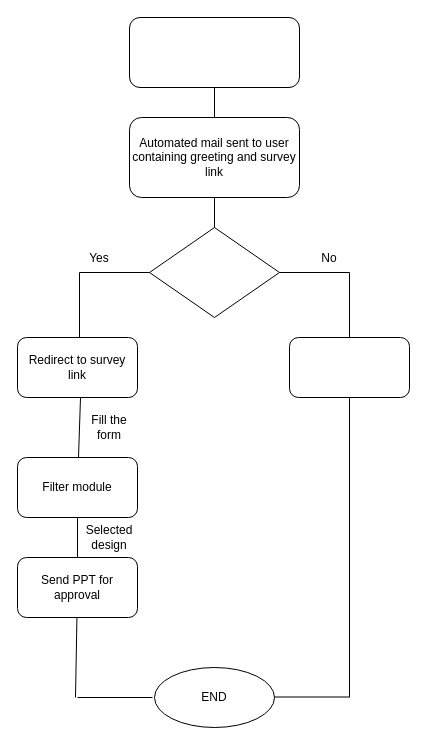
Some shapes in this 427 by 745 pixel diagram are drawn without their labels. The shapes that lost their labels are listed below. From the top down, each one's centre as x and y in pixels, then its label:
At (214,52): "Registration form".
At (214,272): "Continue to survey".
At (349,367): "Redirect to website homepage".
